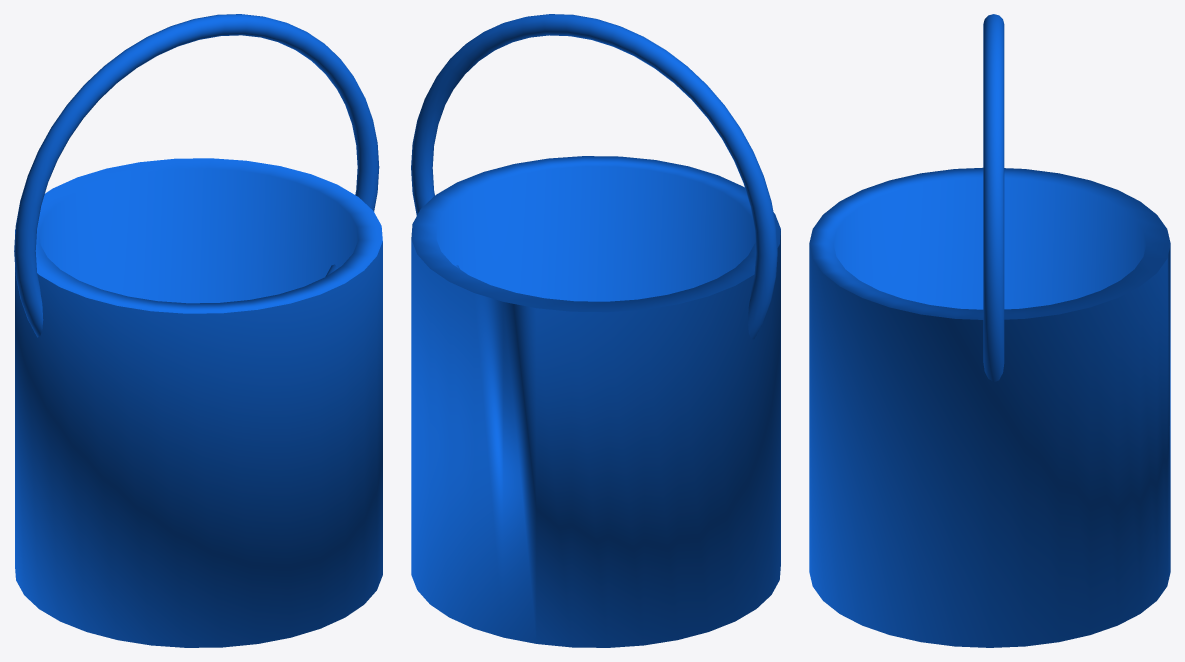
Rendered from bucket2.fbx.
3 renders of one model, left to right at view 1: azimuth 30°, elevation 25°; view 2: azimuth 150°, elevation 25°; view 3: azimuth 270°, elevation 25°, orthographic. The views are drawn at different scales.
Parts seen in each view (by area): view 1: Torus; view 2: Torus; view 3: Torus.
Part boxes in pixels (<box>): Torus: <box>14,14,382,647</box>; Torus: <box>411,14,780,647</box>; Torus: <box>809,14,1170,647</box>.
Bounding box in the file's own units: 227 × 329 × 200.
